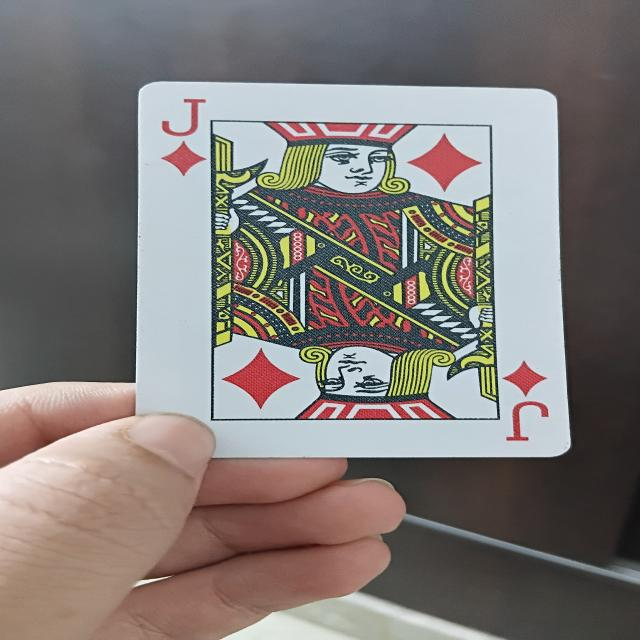JD: (134, 81, 566, 454)
